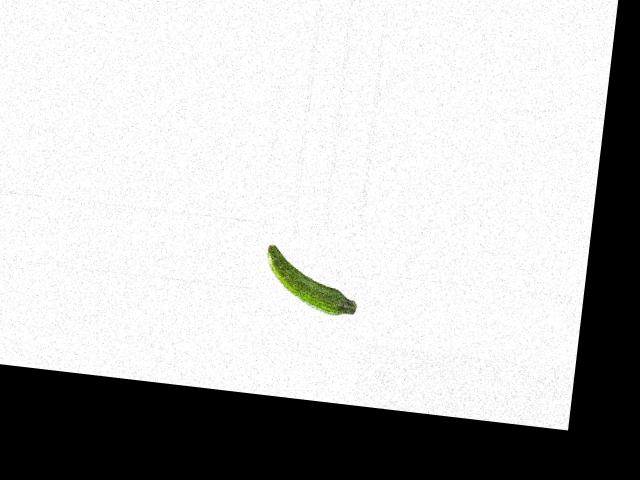cucumber: (261, 243, 364, 318)
